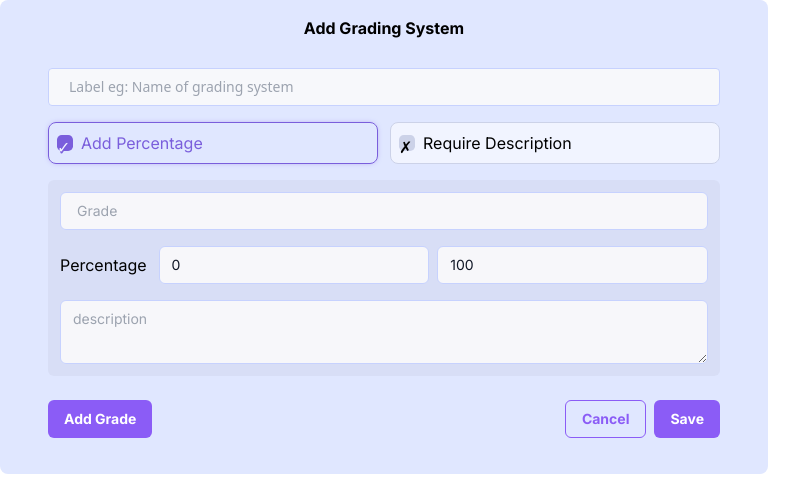
Scenario: AddGradingSystem › Form Reset › should reset form when cancel button is clicked
Note: Fill form data
In the field with placeholder "Label eg: Name of grading system": point(384, 87) [48, 68, 720, 106], type "Test Grading System"
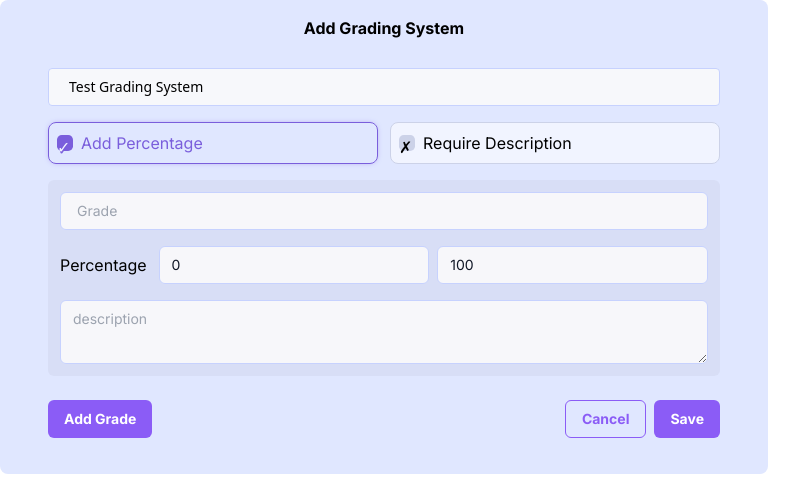
Note: Click cancel
Click the button "Cancel": point(606, 419) [565, 400, 646, 438]
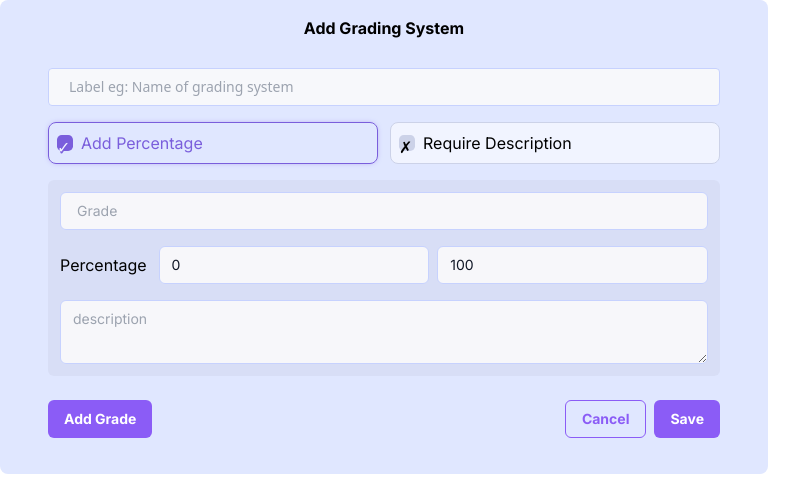
Expected: the field with placeholder "Label eg: Name of grading system" is empty, [48, 68, 720, 106]
